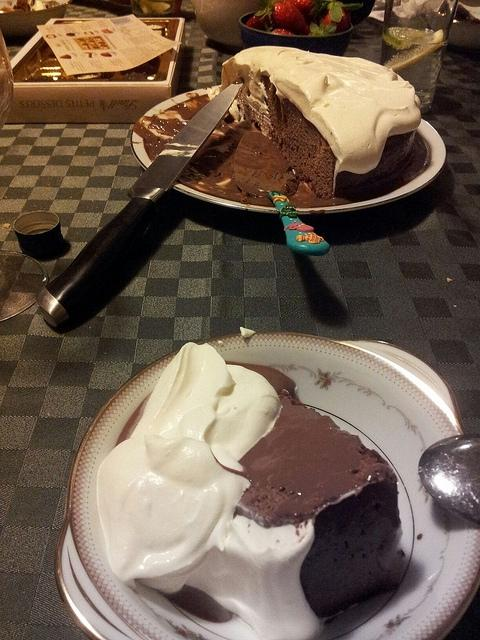lime: (384, 28, 428, 50)
strawberry: (260, 1, 310, 36), (321, 1, 364, 34), (292, 0, 329, 25), (308, 16, 337, 36), (246, 10, 272, 31), (272, 28, 296, 36)
